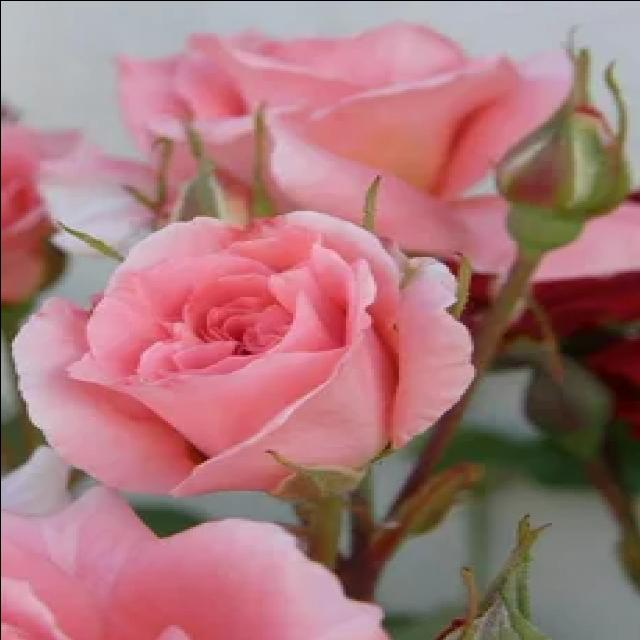rose: (4, 202, 501, 499)
